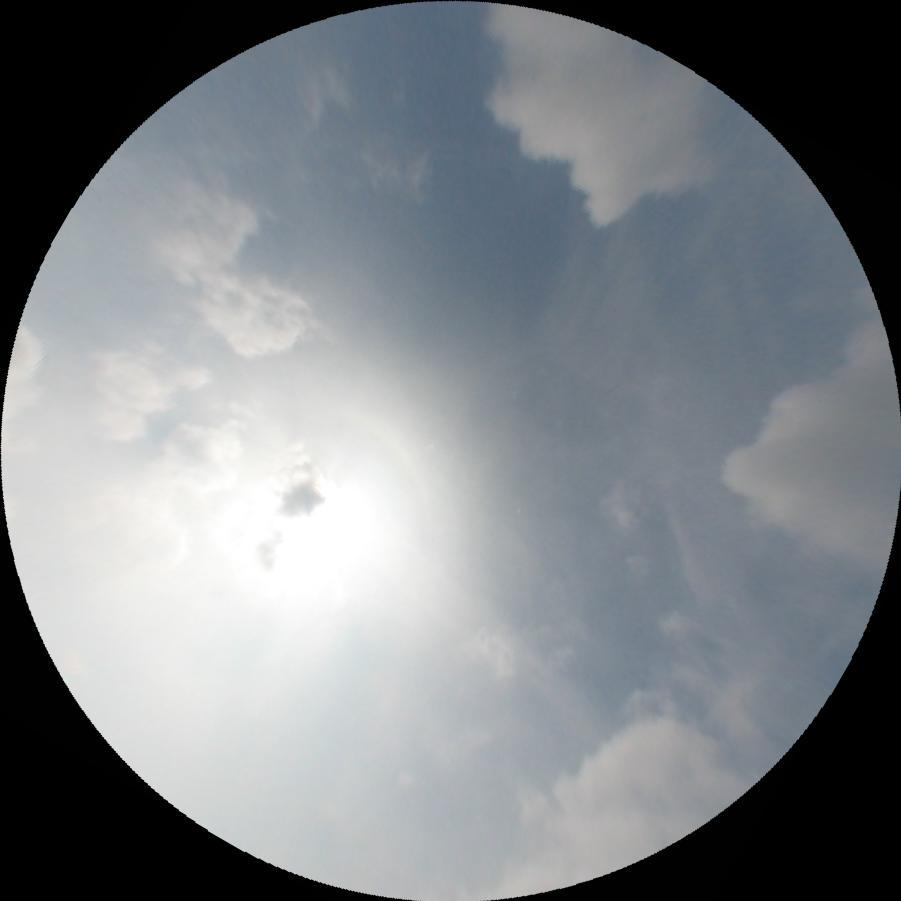sun: (216, 455, 381, 623)
